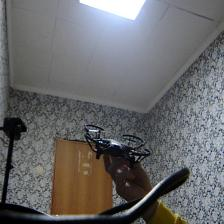drone: (78, 114, 152, 170)
